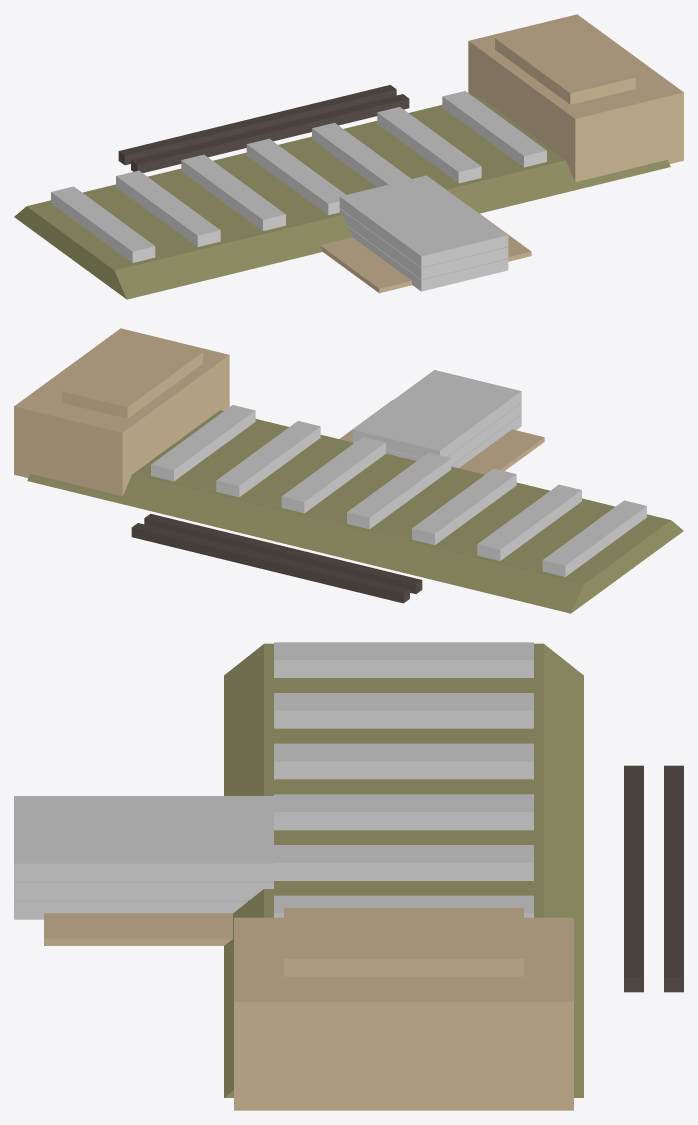
The model's file is SM_Via_Topera_v3_Obra_LOD1.fbx.
The picture shows the model from 3 angles, top to bottom: view 1: azimuth 30°, elevation 25°; view 2: azimuth 150°, elevation 25°; view 3: azimuth 270°, elevation 25°; orthographic projection. The views are drawn at different scales.
Parts seen in each view (by area): view 1: SM_via_trazado_v38_LOD1; view 2: SM_via_trazado_v38_LOD1; view 3: SM_via_trazado_v38_LOD1.
Boxes of the visible parts, x1=… form: SM_via_trazado_v38_LOD1: x1=14, y1=14, x2=683, y2=299; SM_via_trazado_v38_LOD1: x1=14, y1=328, x2=683, y2=613; SM_via_trazado_v38_LOD1: x1=14, y1=642, x2=683, y2=1110.
Size of the model in its own units: 10.3 by 1.4 by 6.7.
